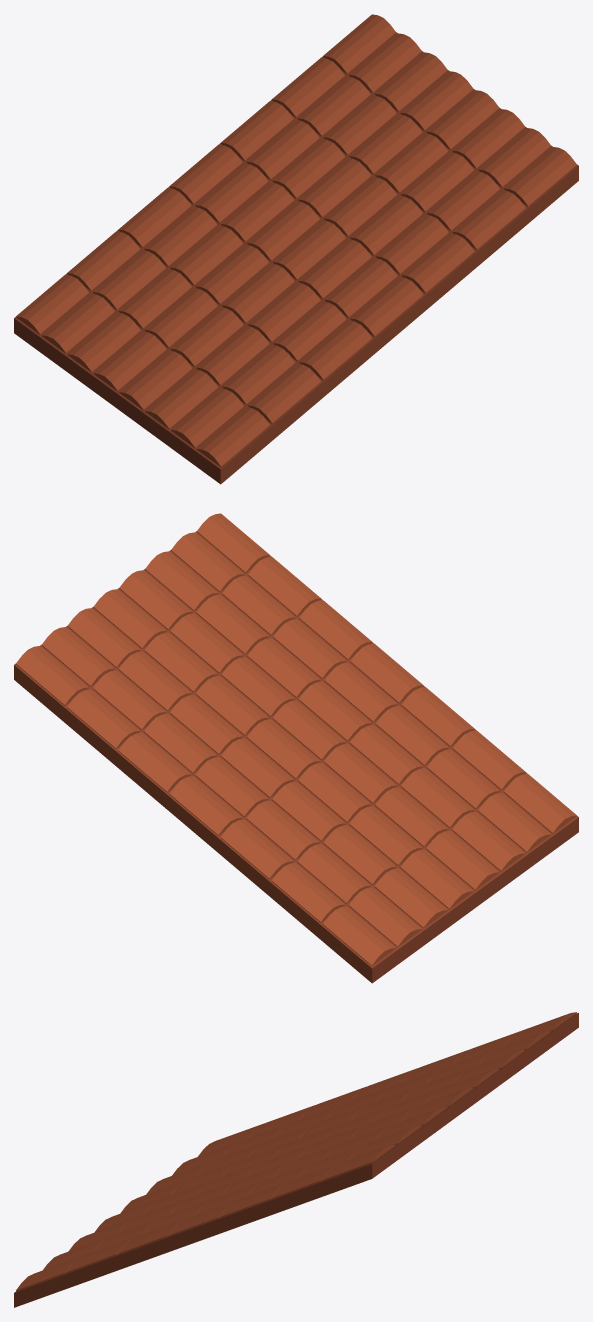
File: MH_Roof_Slope30_Run2x2m.fbx
3 renders of one model, top to bottom at view 1: azimuth 30°, elevation 25°; view 2: azimuth 150°, elevation 25°; view 3: azimuth 330°, elevation 25°, orthographic.
Visible parts, largest first — view 1: Body; view 2: Body; view 3: Body.
Boxes of the visible parts, x1,y1,x2,y2 form: Body: (14, 14, 578, 484); Body: (14, 513, 578, 983); Body: (14, 1012, 578, 1307).
Bounding box in the file's own units: 2 × 1.27 × 2.
